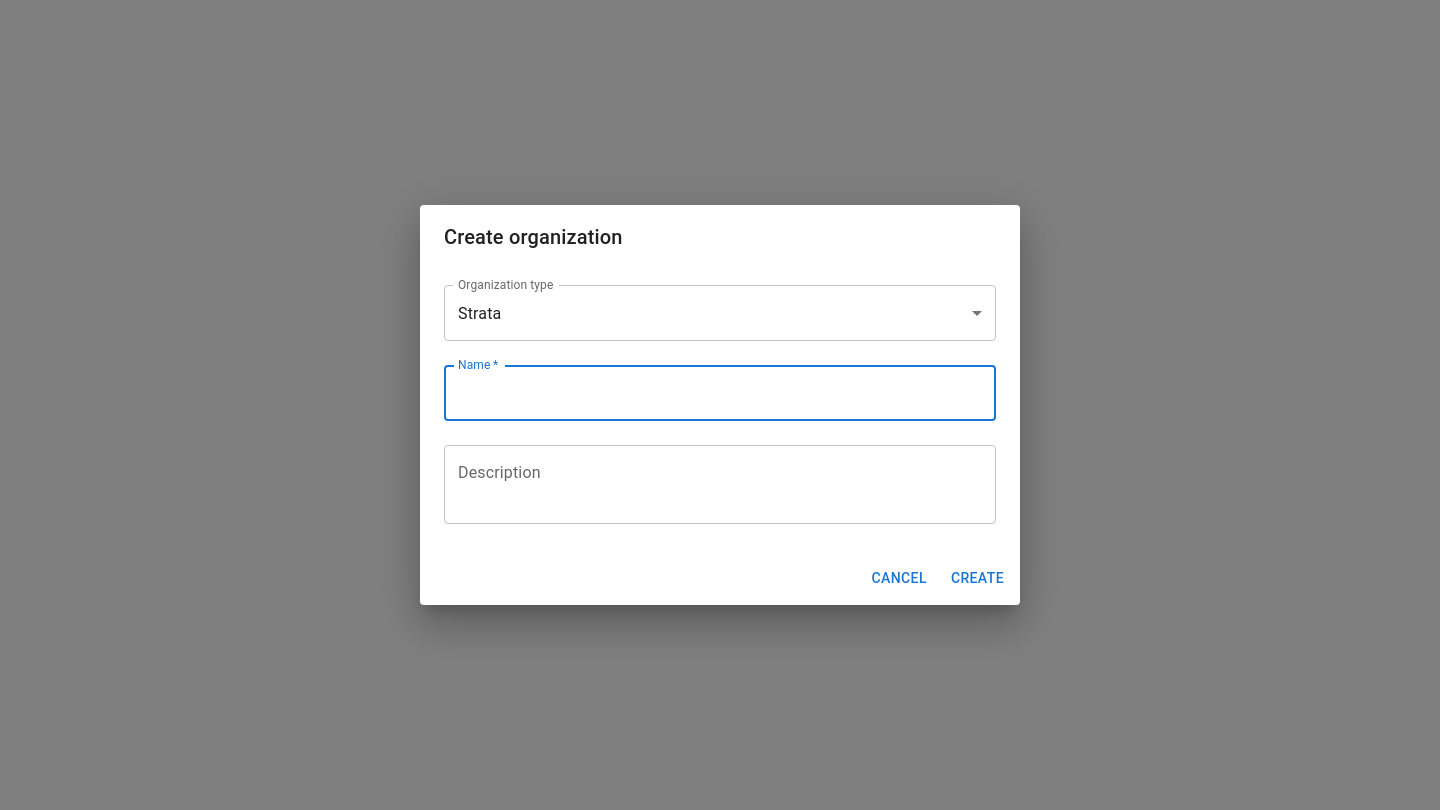
Scenario: reports conflict as failure with no success and no extra mutation
Type "Private creation name" into the field labelled "Name" at coordinates (720, 393), box [444,365,996,421]
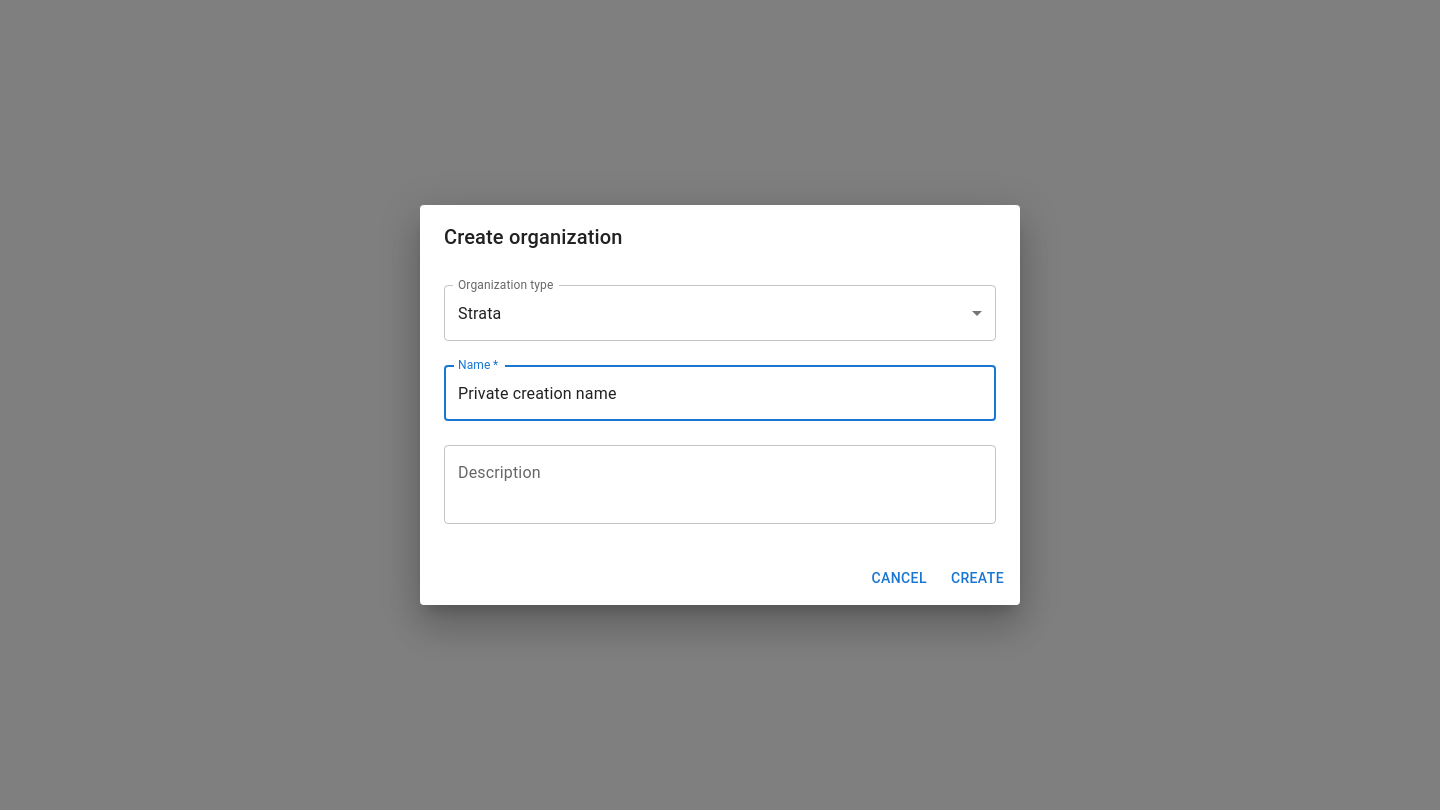
Type "Private creation body" into the text box labelled "Description" at coordinates (720, 485), box [458,462,982,508]
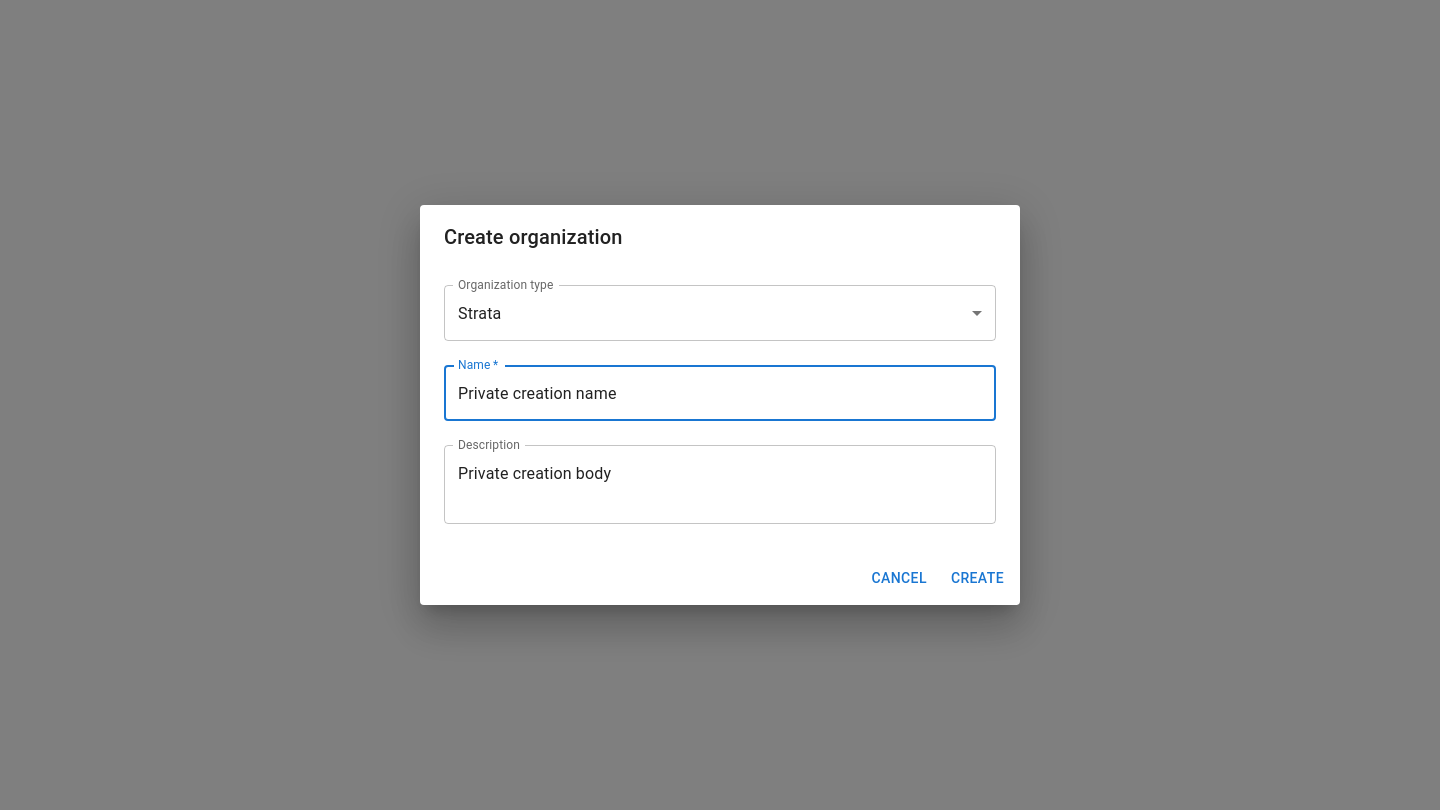
Click the button "Create" at coordinates (977, 579), box [943,560,1012,597]
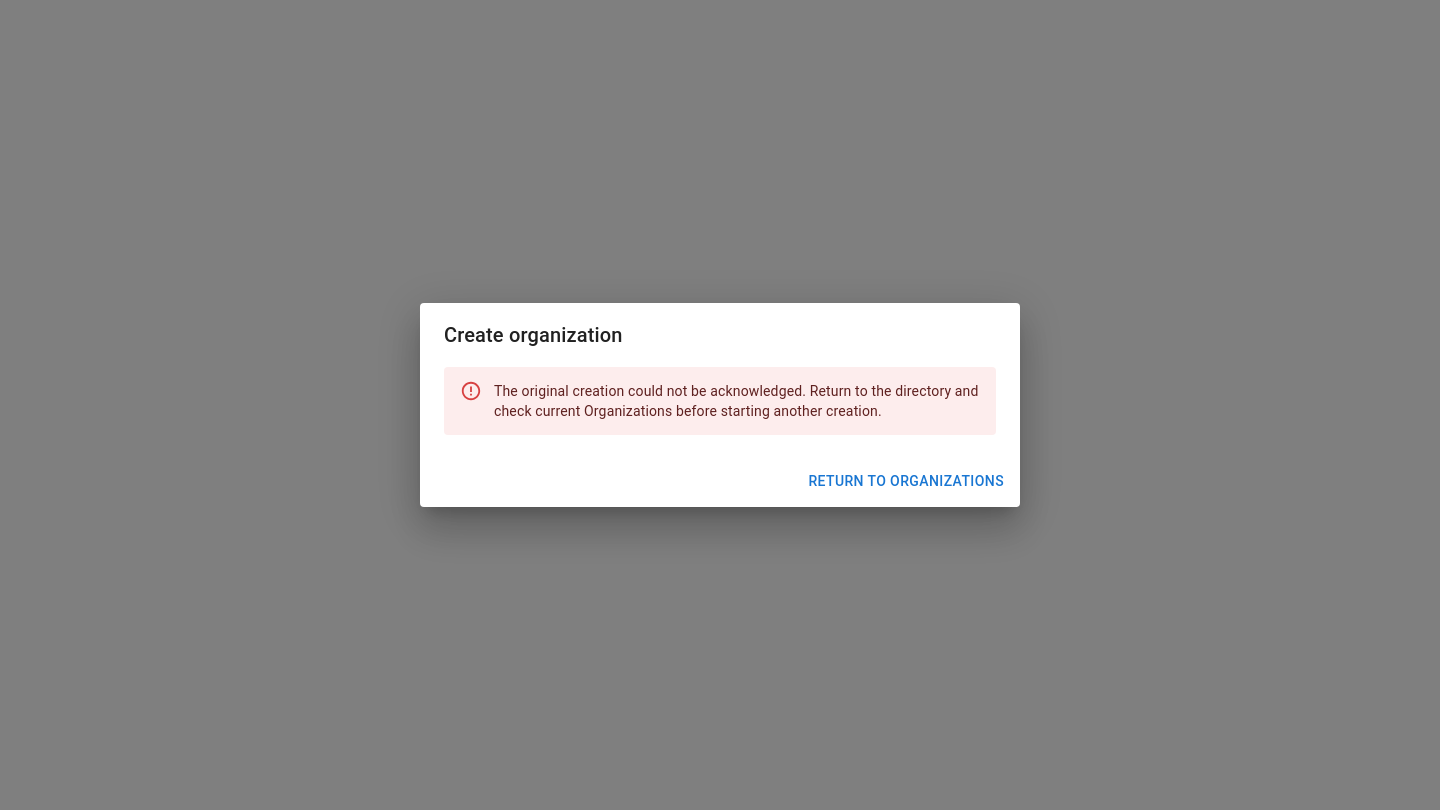
Now the text "Return to the directory and check" is shown, box [494,383,978,419]
